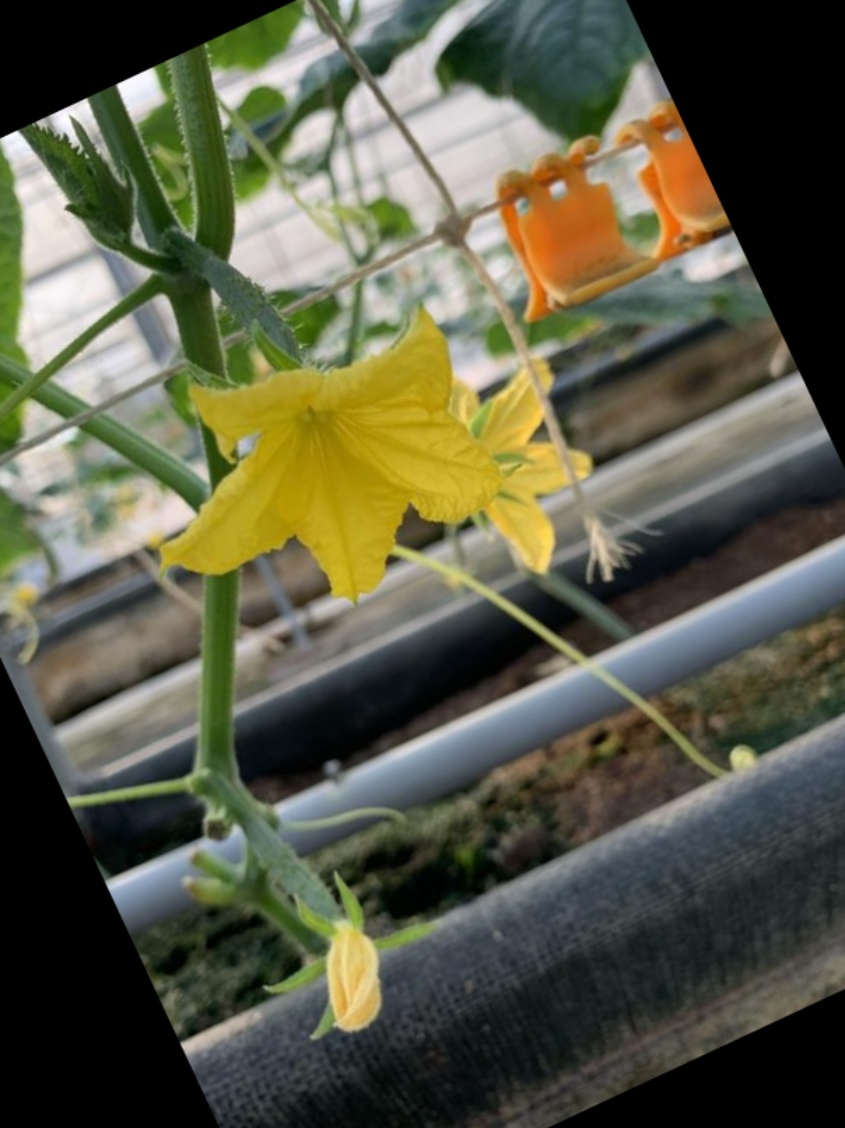flowering: (73, 252, 505, 612)
